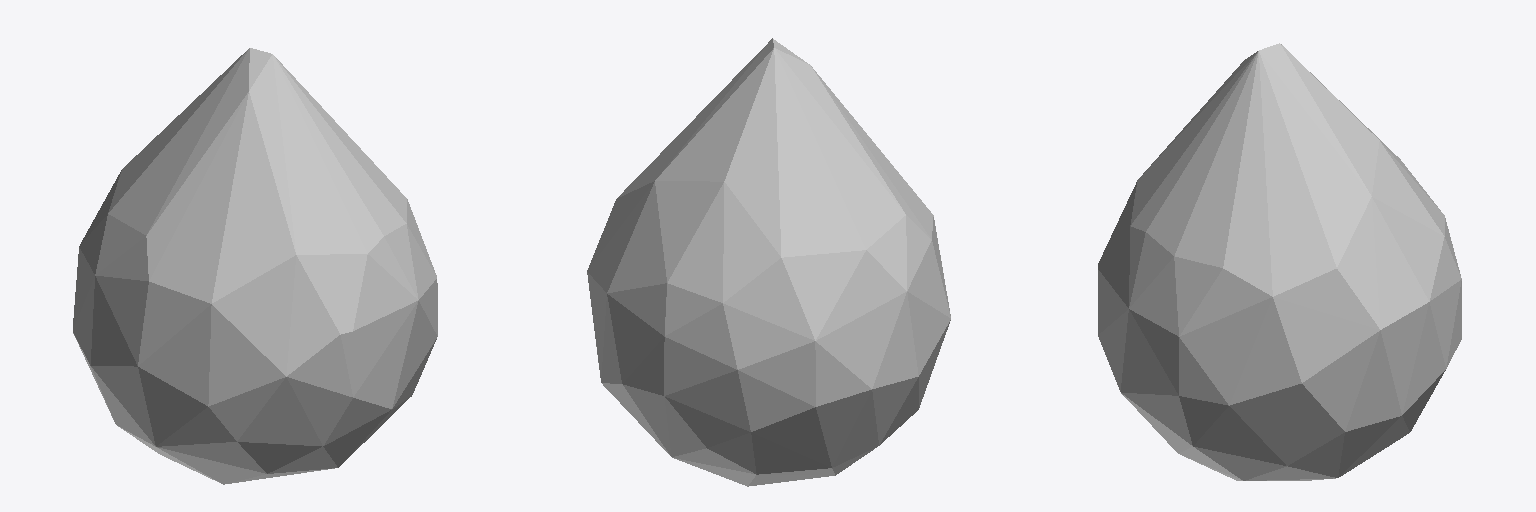
File: strawberry_vhacd.obj
The picture shows the model from 3 angles: view 1: azimuth 30°, elevation 25°; view 2: azimuth 150°, elevation 25°; view 3: azimuth 270°, elevation 25°; orthographic projection.
Parts seen in each view (by area): view 1: convex_0; view 2: convex_0; view 3: convex_0.
Boxes of the visible parts, x1,y1,x2,y2 form: convex_0: [73, 48, 437, 484]; convex_0: [587, 38, 950, 486]; convex_0: [1098, 43, 1461, 480].
Bounding box in the file's own units: 1.95 × 2.48 × 1.95.